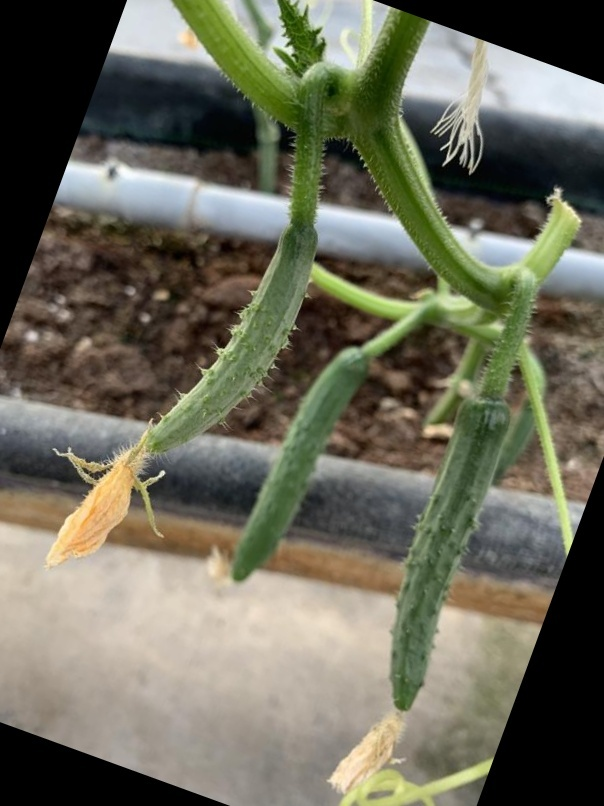growth: (46, 217, 326, 555), (361, 395, 518, 733), (223, 346, 374, 584)
